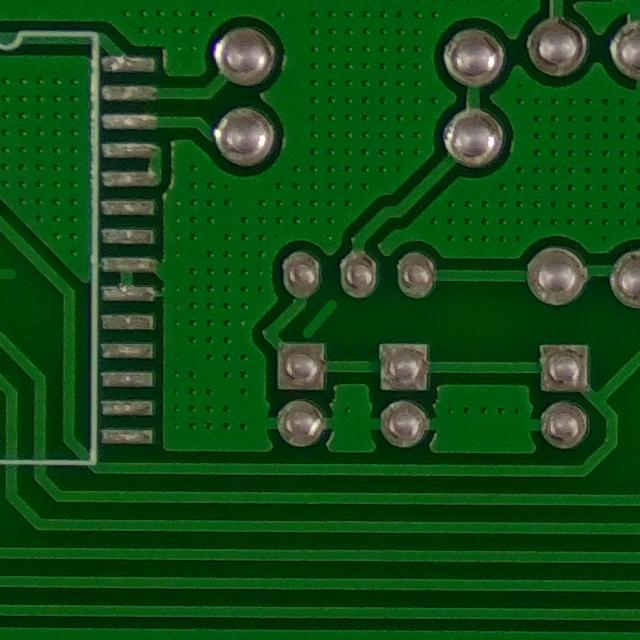spurious_copper: (284, 297, 356, 344)
